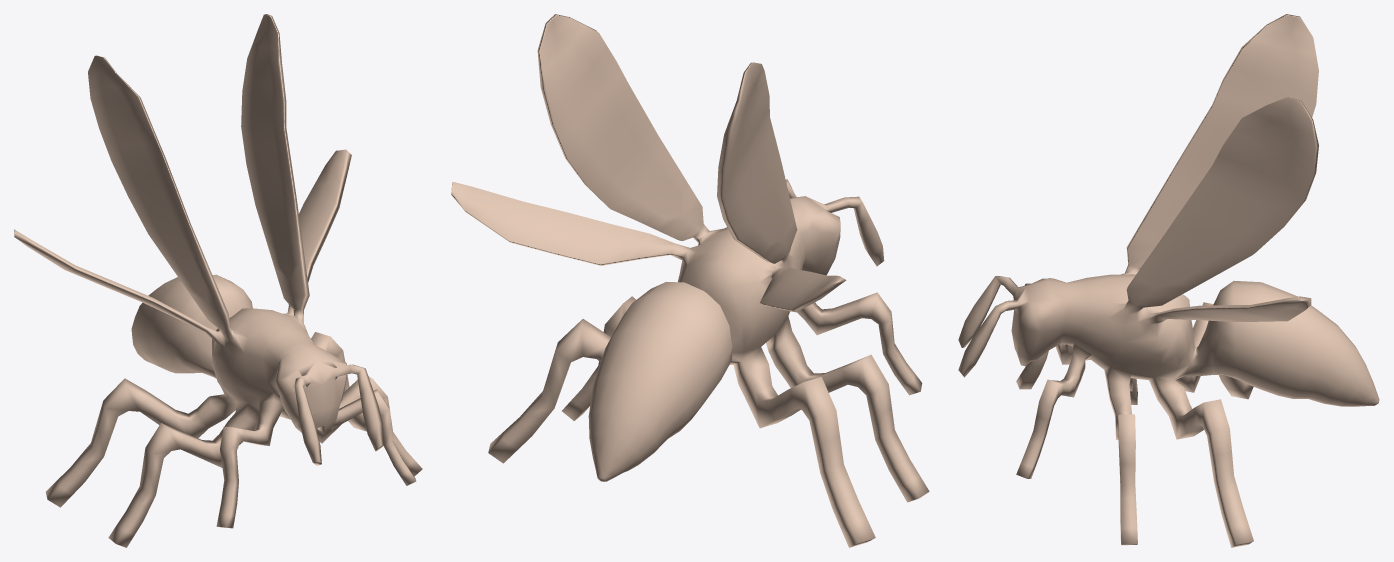
The model's file is bug.fbx.
The picture shows the model from 3 angles, left to right: view 1: azimuth 30°, elevation 25°; view 2: azimuth 150°, elevation 25°; view 3: azimuth 270°, elevation 25°; orthographic projection. The views are drawn at different scales.
Parts seen in each view (by area): view 1: Wasp:wasp; view 2: Wasp:wasp; view 3: Wasp:wasp.
Part boxes in pixels (x1,y1,x2,y2): Wasp:wasp: (14,14,422,547); Wasp:wasp: (451,14,929,547); Wasp:wasp: (958,14,1379,547).
Size of the model in its own units: 6.5 by 7.67 by 6.98.
